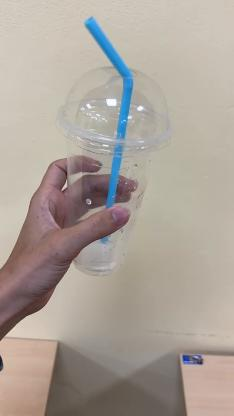Plastic Cup: (56, 64, 174, 278)
